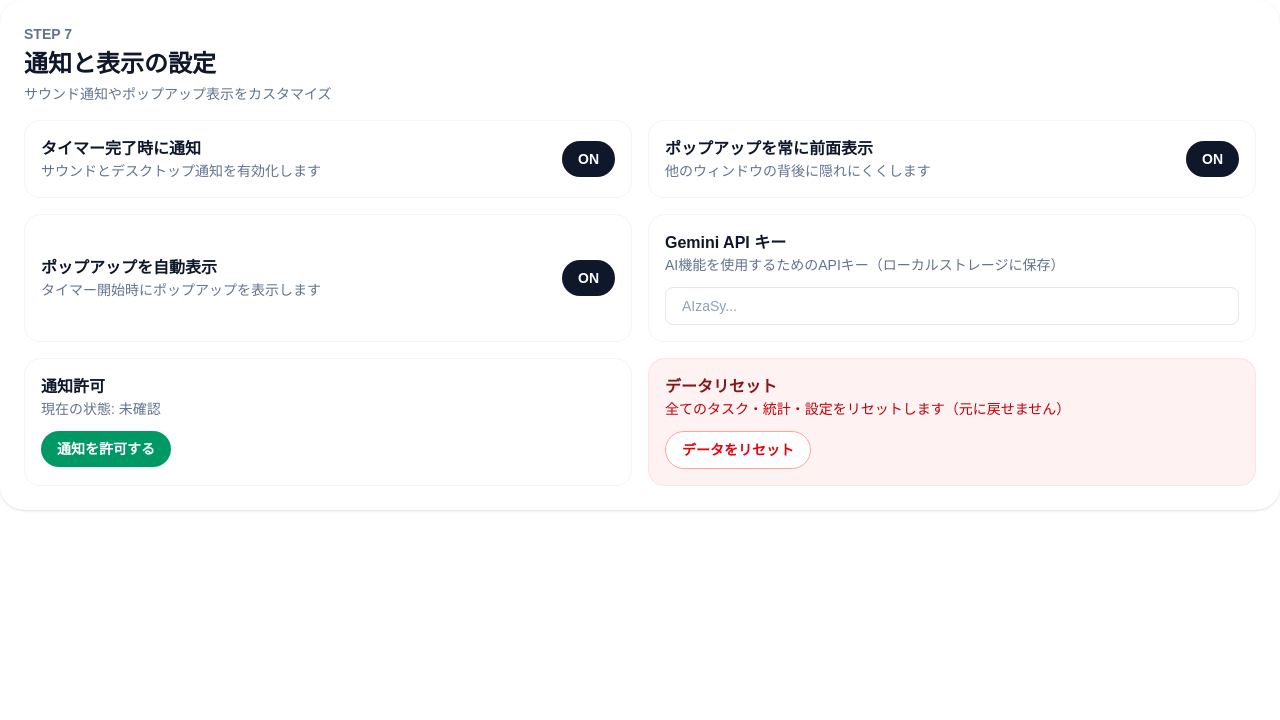
Test: SettingsPanel › 通知許可ボタンを表示する
The width and height of the screenshot is (1280, 720).
Step 1. Click the button "通知を許可する" → [106, 449], box [41,431,171,467]
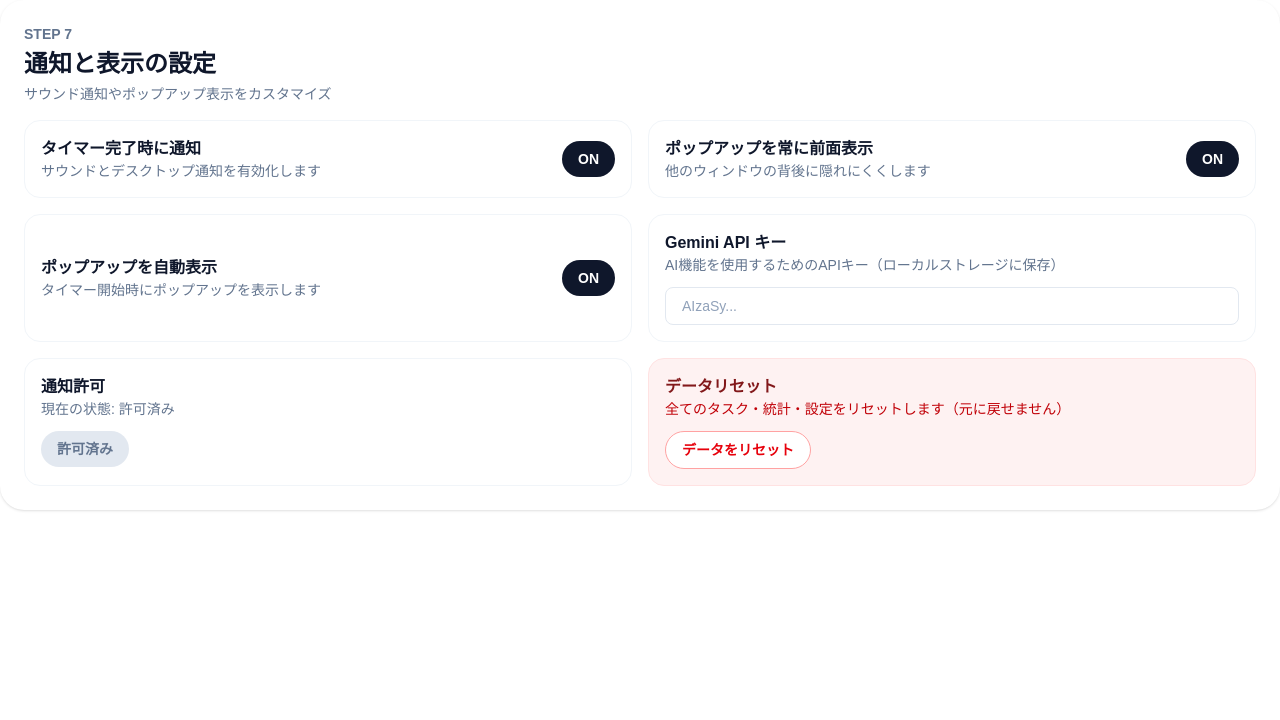
expect the text "現在の状態: 許可済み" is shown: met, box [41,401,175,417]
